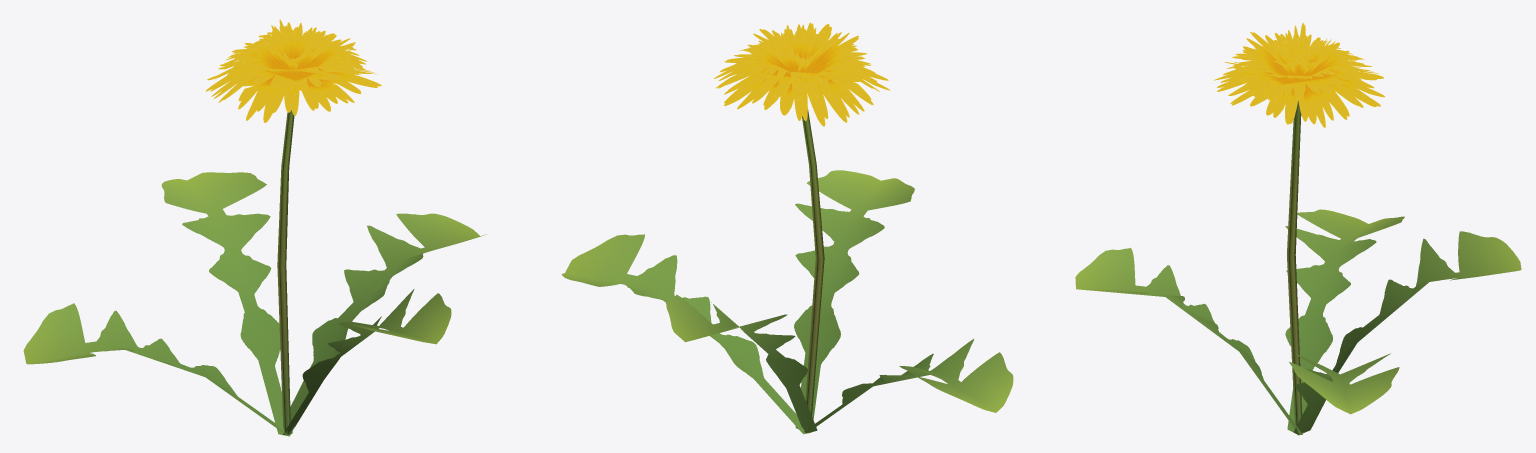
The model's file is flower_dandelion.fbx.
The picture shows the model from 3 angles, left to right: view 1: azimuth 30°, elevation 25°; view 2: azimuth 150°, elevation 25°; view 3: azimuth 270°, elevation 25°; orthographic projection.
Visible parts, largest first — view 1: flower_dandelion; view 2: flower_dandelion; view 3: flower_dandelion.
Part boxes in pixels (left/top/right/bottom): flower_dandelion: left=23, top=19, right=486, bottom=436; flower_dandelion: left=561, top=22, right=1013, bottom=434; flower_dandelion: left=1075, top=23, right=1521, bottom=435.
Bounding box in the file's own units: 63.87 × 53.64 × 53.72.
